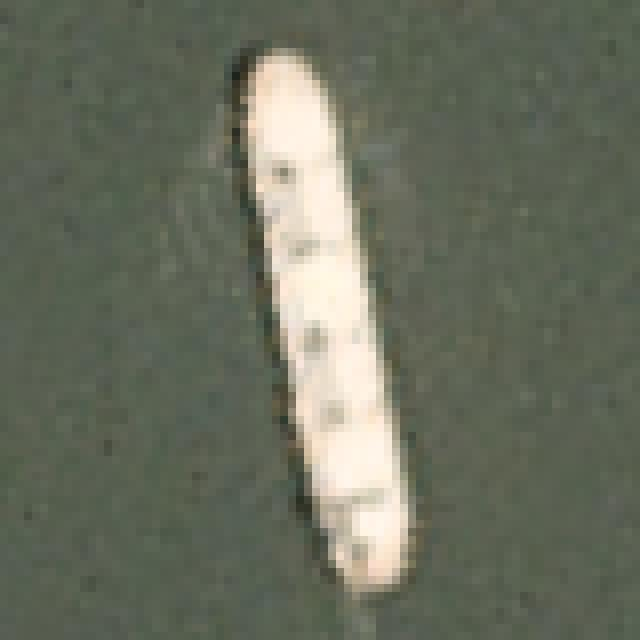ship: (211, 25, 478, 612)
